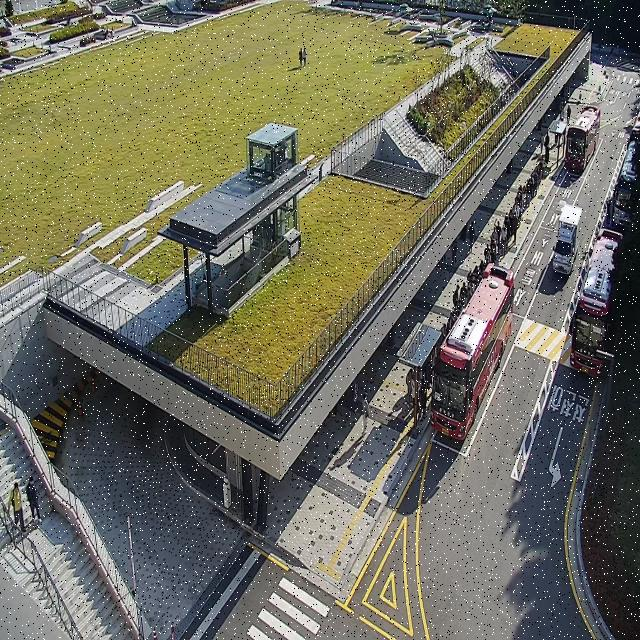queue: (416, 146, 550, 428)
